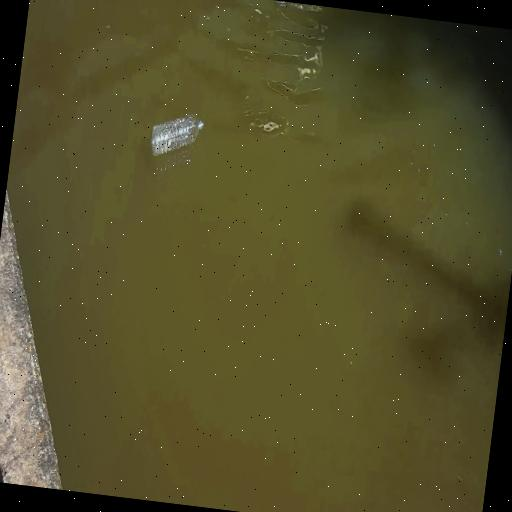plastic: (148, 109, 206, 164)
